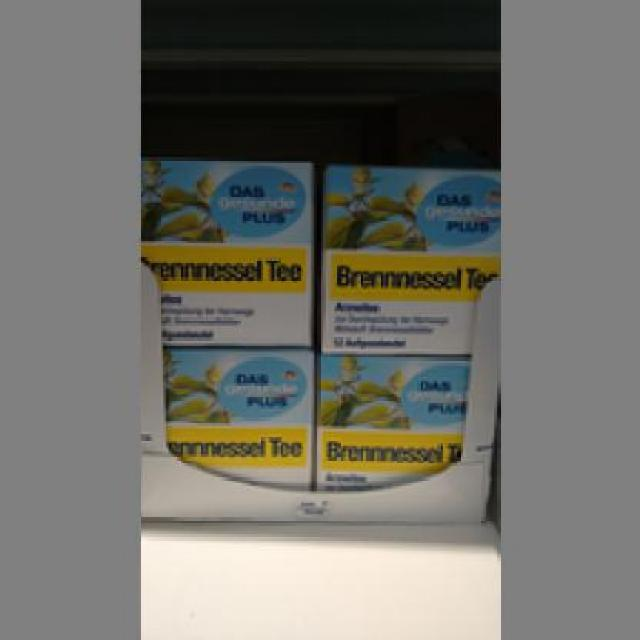Tea: (314, 160, 497, 354), (137, 154, 314, 346), (314, 352, 472, 494), (160, 346, 309, 486)
